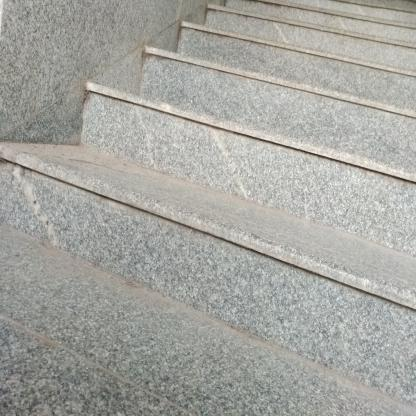stairs: (142, 49, 416, 348)
